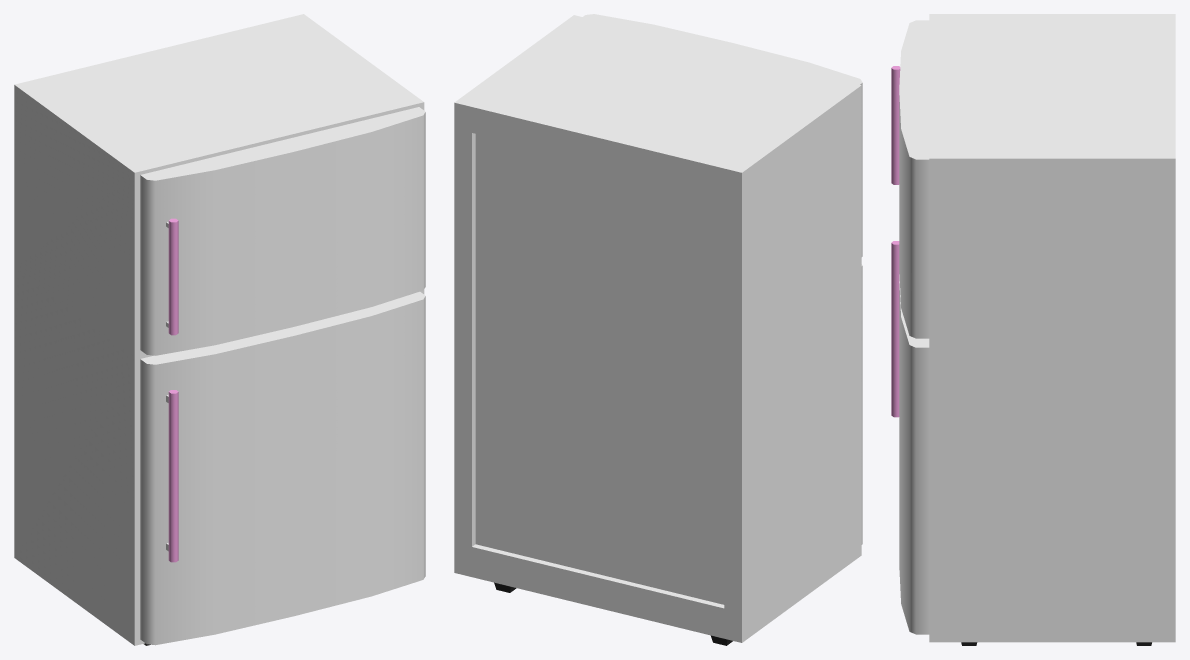
The model's file is Fridge_k (1).fbx.
3 renders of one model, left to right at view 1: azimuth 30°, elevation 25°; view 2: azimuth 150°, elevation 25°; view 3: azimuth 270°, elevation 25°, orthographic. The views are drawn at different scales.
Visible parts, largest first — view 1: polySurface17, polySurface10, polySurface2, polySurface16, polySurface6; view 2: polySurface17, polySurface2; view 3: polySurface17, polySurface2, polySurface10, polySurface16, polySurface6.
Part boxes in pixels (x1=…): polySurface17: x1=14, y1=14, x2=424, y2=645; polySurface10: x1=140, y1=291, x2=425, y2=645; polySurface2: x1=140, y1=107, x2=425, y2=355; polySurface16: x1=168, y1=390, x2=178, y2=562; polySurface6: x1=168, y1=218, x2=178, y2=335; polySurface17: x1=454, y1=15, x2=861, y2=642; polySurface2: x1=583, y1=14, x2=862, y2=256; polySurface17: x1=929, y1=14, x2=1175, y2=642; polySurface2: x1=899, y1=20, x2=929, y2=338; polySurface10: x1=899, y1=274, x2=929, y2=634; polySurface16: x1=891, y1=241, x2=899, y2=417; polySurface6: x1=891, y1=66, x2=900, y2=184.
Bounding box in the file's own units: 56.99 × 92.45 × 47.44.
